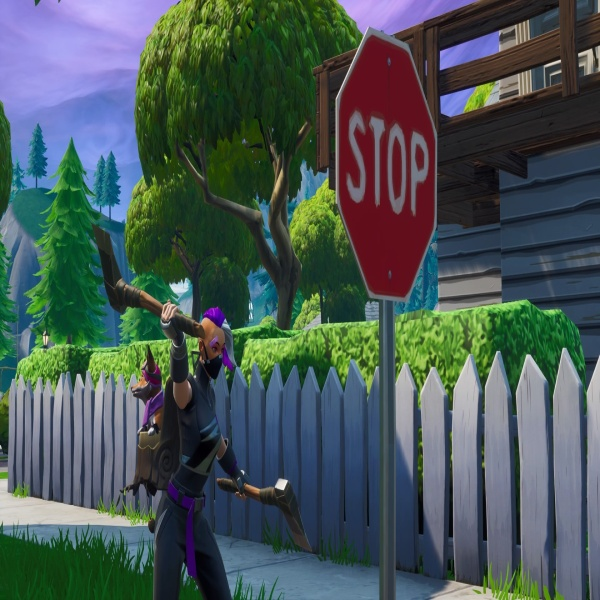stop: (334, 43, 442, 303)
